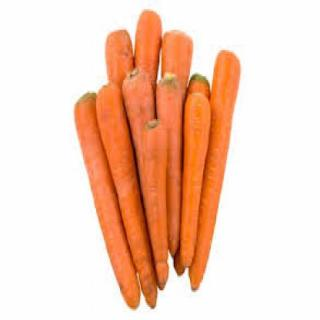Wortel: (72, 92, 142, 313), (94, 84, 161, 311), (189, 47, 244, 298), (179, 92, 211, 267), (140, 120, 170, 287)
